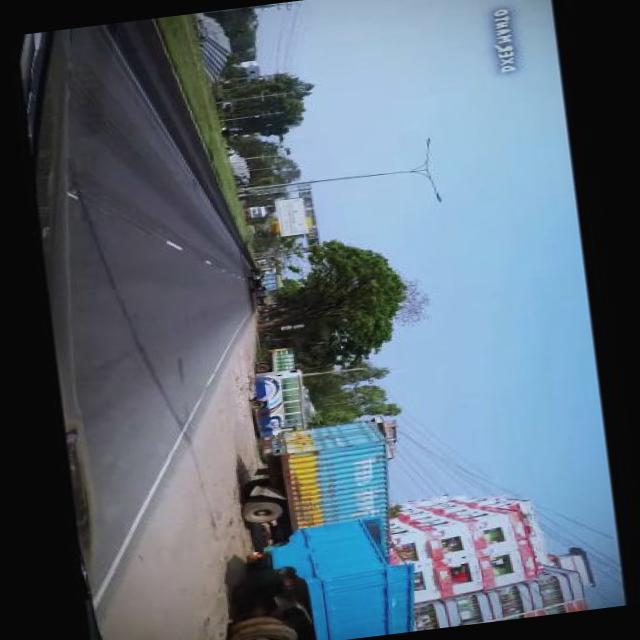bus: (244, 206, 268, 228)
truck: (234, 418, 401, 573), (254, 347, 297, 374), (248, 272, 284, 294), (251, 267, 278, 276), (260, 295, 277, 307)
